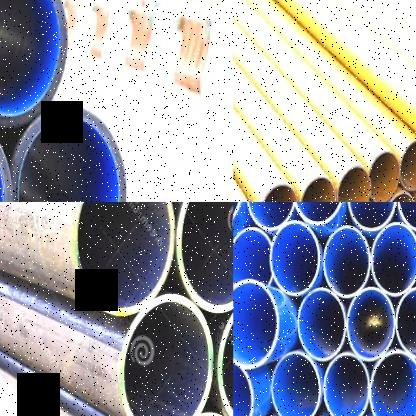pipe: (72, 202, 176, 315), (119, 294, 214, 416), (12, 104, 127, 202), (0, 0, 68, 126), (177, 202, 233, 314), (233, 278, 279, 370), (269, 221, 321, 295), (347, 287, 395, 361), (323, 225, 371, 298), (298, 288, 346, 361), (371, 222, 416, 295), (271, 351, 320, 416), (370, 351, 416, 415), (323, 353, 369, 416), (233, 227, 274, 287), (369, 151, 400, 202), (395, 287, 416, 360), (347, 202, 397, 231), (246, 202, 294, 231), (233, 357, 254, 416), (337, 166, 371, 202), (291, 202, 345, 224), (300, 177, 336, 202), (399, 139, 416, 191), (259, 184, 298, 202)
